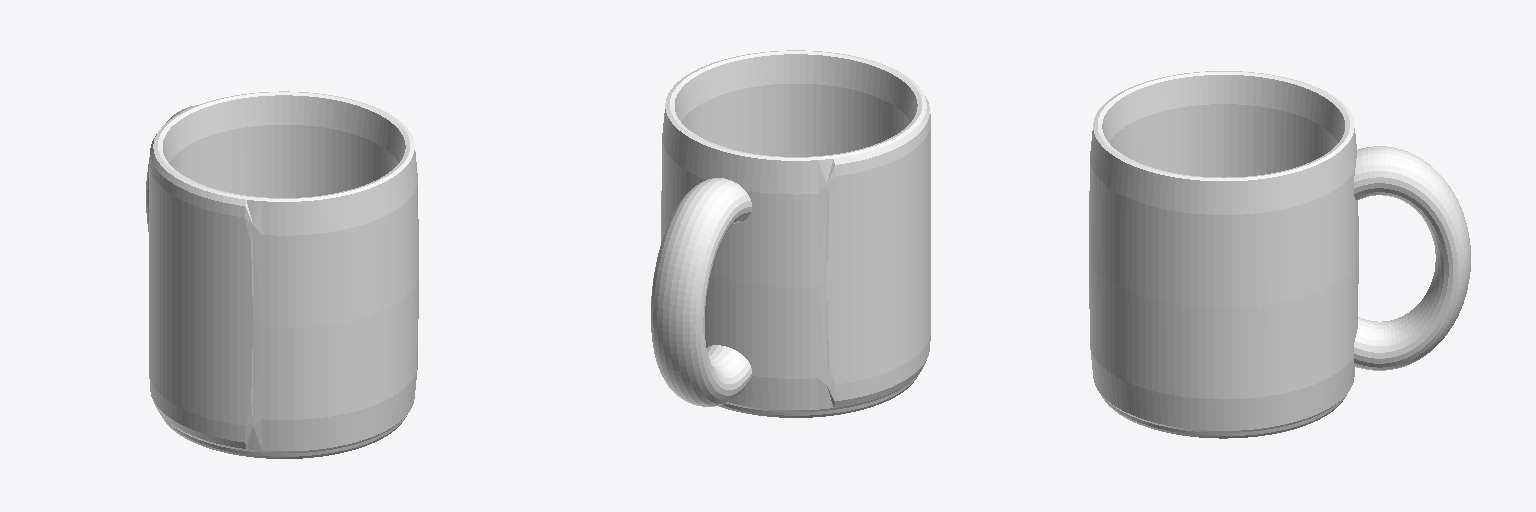
The model's file is mug.obj.
3 renders of one model, left to right at view 1: azimuth 30°, elevation 25°; view 2: azimuth 150°, elevation 25°; view 3: azimuth 270°, elevation 25°, orthographic.
Visible parts, largest first — view 1: Cylinder.001; view 2: Cylinder.001; view 3: Cylinder.001.
Part boxes in pixels (x1,y1,x2,y2): Cylinder.001: (146,91,418,458); Cylinder.001: (651,50,930,417); Cylinder.001: (1089,71,1470,438).
Size of the model in its own units: 2.02 by 2.16 by 2.85.